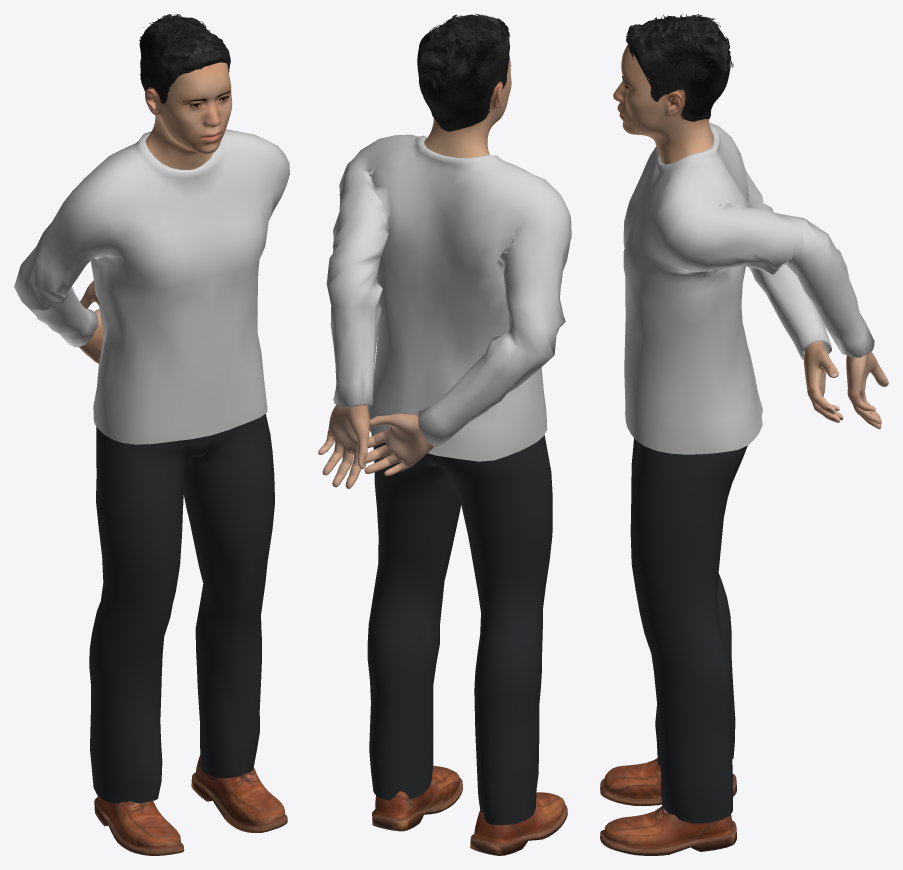
Rendered from man-casual.glb.
3 views of the same model, side by side, from view 1: azimuth 30°, elevation 25°; view 2: azimuth 150°, elevation 25°; view 3: azimuth 270°, elevation 25° (orthographic).
Visible parts, largest first — view 1: male_casualsuit02, Sam | anatomical body, shoes01, short01; view 2: male_casualsuit02, short01, Sam | anatomical body, shoes01; view 3: male_casualsuit02, Sam | anatomical body, short01, shoes01.
Boxes of the visible parts, x1,y1,x2,y2 form: male_casualsuit02: (14, 129, 289, 803); Sam | anatomical body: (78, 62, 232, 363); shoes01: (94, 755, 287, 855); short01: (139, 14, 230, 115); male_casualsuit02: (326, 134, 571, 825); short01: (417, 14, 510, 131); Sam | anatomical body: (318, 58, 511, 488); shoes01: (372, 766, 567, 855); male_casualsuit02: (623, 122, 874, 823); Sam | anatomical body: (613, 44, 888, 429); short01: (626, 14, 733, 121); shoes01: (600, 758, 736, 855).
Size of the model in its own units: 0.8608 by 2.8 by 0.914.
Materials: 9 (9 with a texture image).
